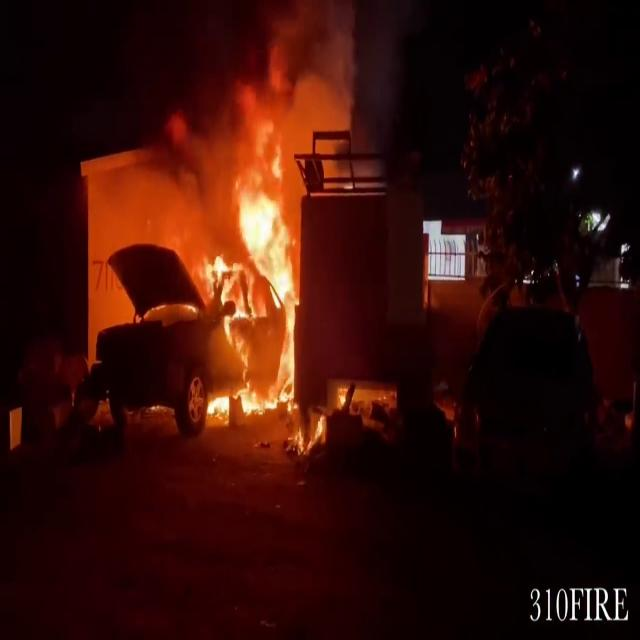Fire: (199, 142, 309, 428)
